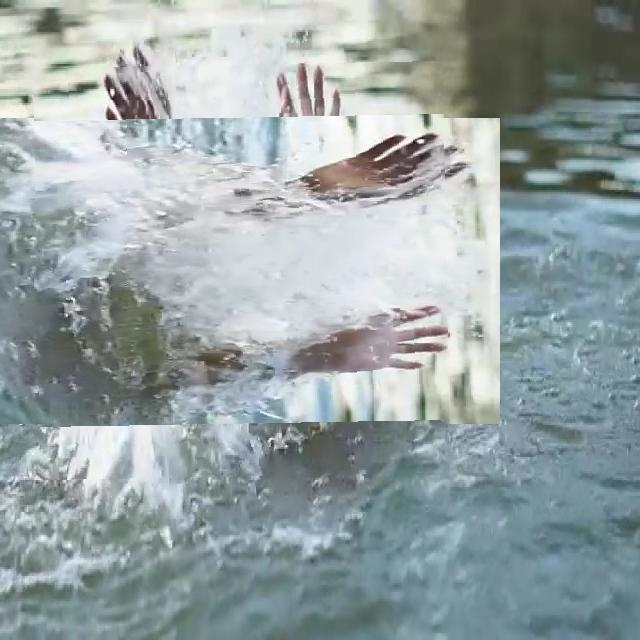Out of Water: (35, 64, 449, 478)
